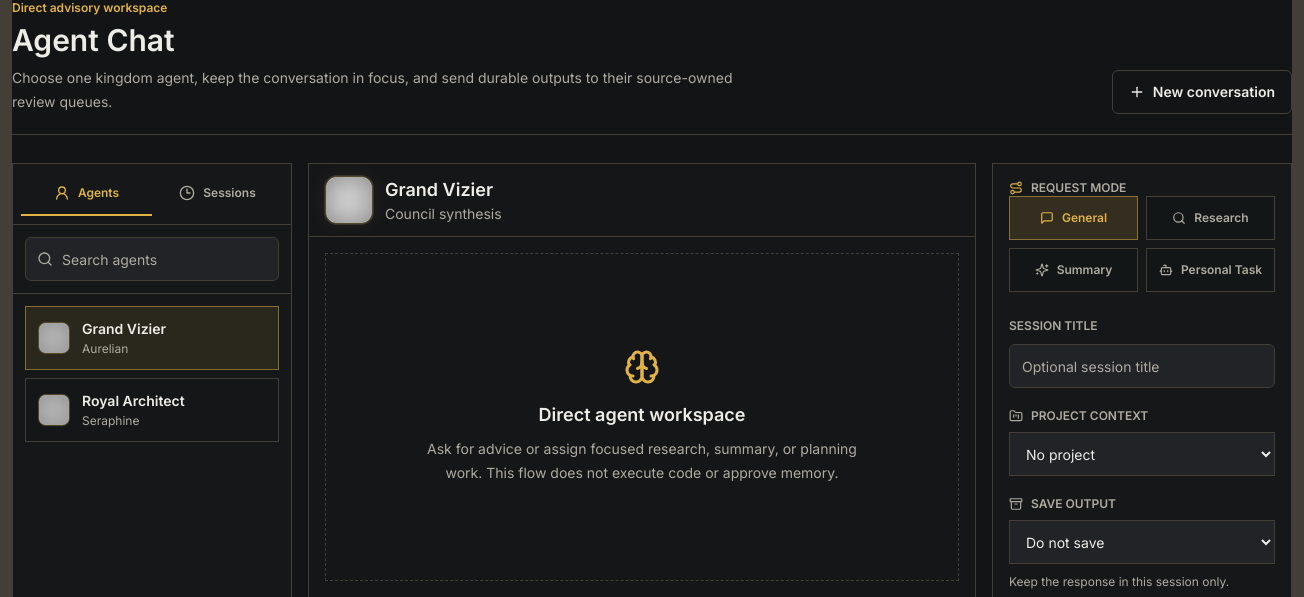
Test: AgentChatPage workspace › loads an existing session and keeps its canonical source links
Click the button "Sessions" at (218, 194), box [152,172,283,216]
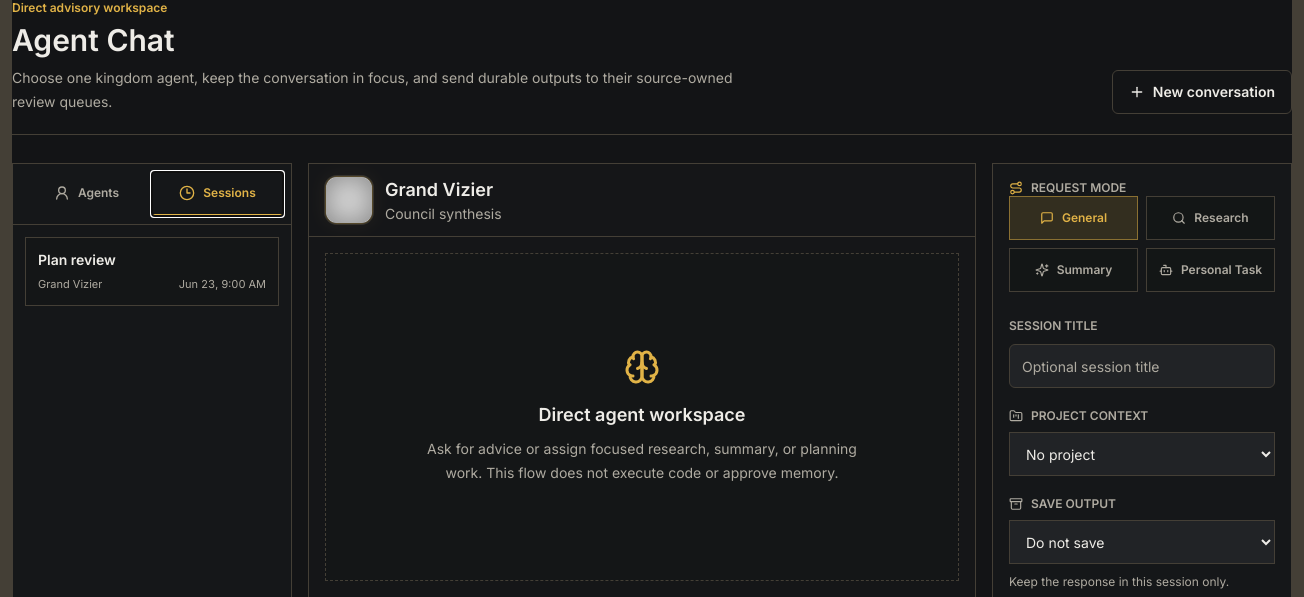
Click the button with aria-label "Open session Plan review" at (152, 271), box [25,237,279,306]
(page scrolled)
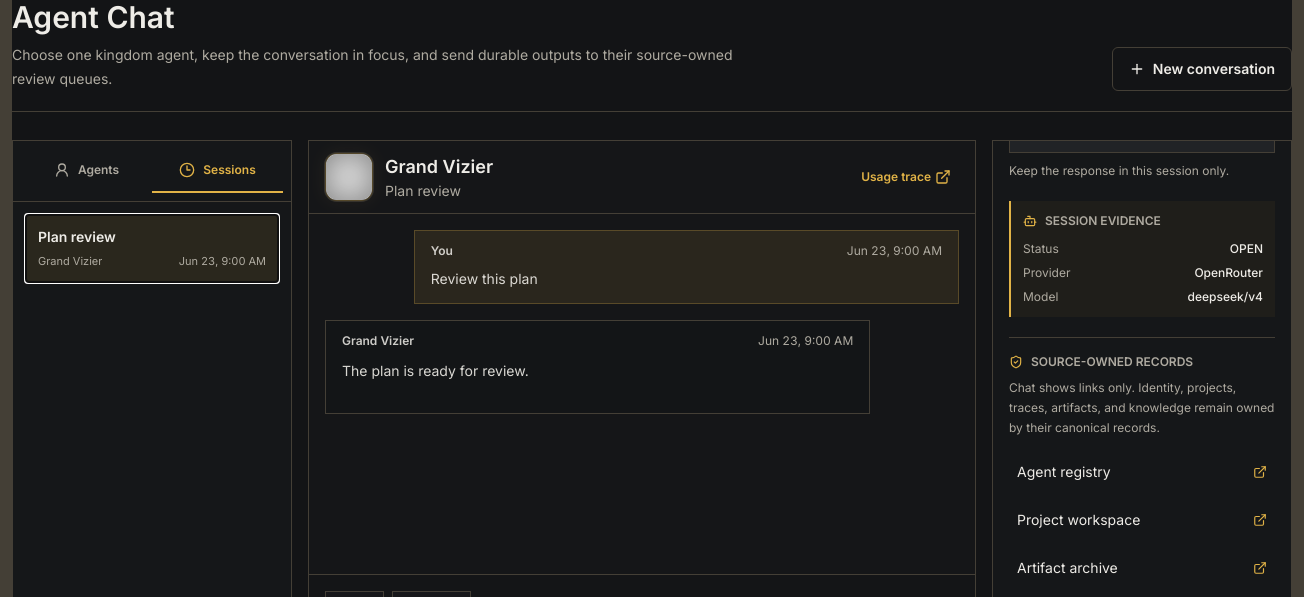
Check: the text "The plan is ready for review." is shown, box [342,362,529,379]
